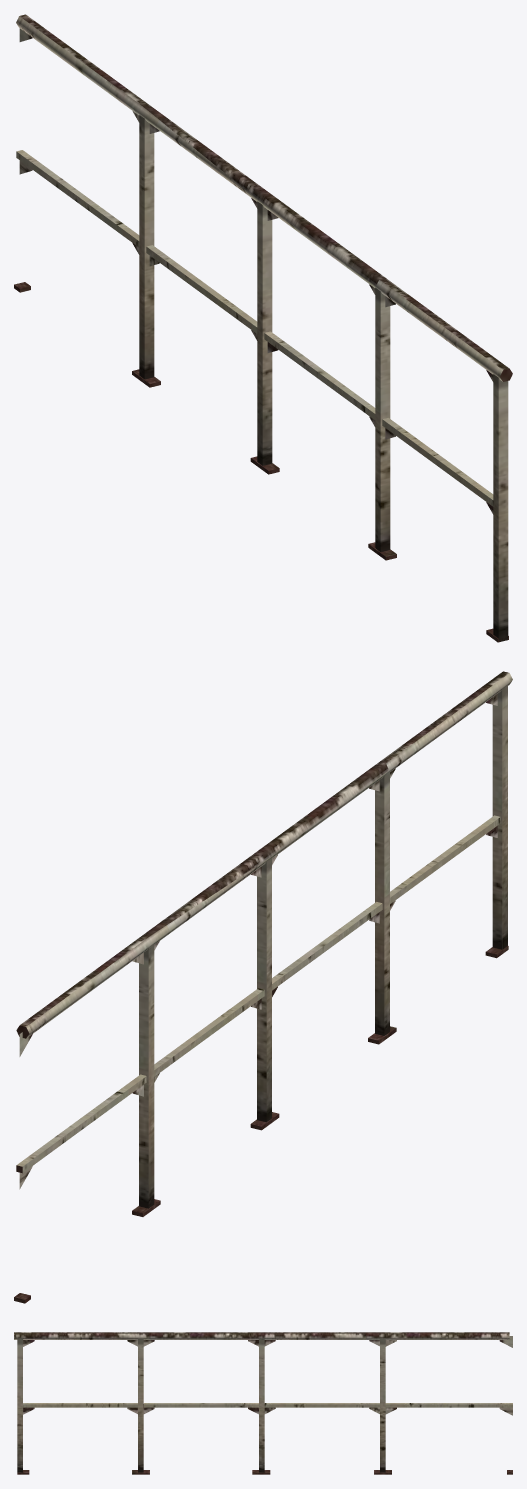
File: handrail04_long.glb
3 renders of one model, top to bottom at view 1: azimuth 30°, elevation 25°; view 2: azimuth 150°, elevation 25°; view 3: azimuth 270°, elevation 25°, orthographic. The views are drawn at different scales.
Visible parts, largest first — view 1: 0_HandrailMetal001a; view 2: 0_HandrailMetal001a; view 3: 0_HandrailMetal001a.
Part boxes in pixels (<box>): 0_HandrailMetal001a: <box>14,14,512,642</box>; 0_HandrailMetal001a: <box>14,671,512,1303</box>; 0_HandrailMetal001a: <box>14,1332,512,1474</box>.
Bounding box in the file's own units: 0.0508 × 1.02 × 3.27.
1 material, 1 textured.
